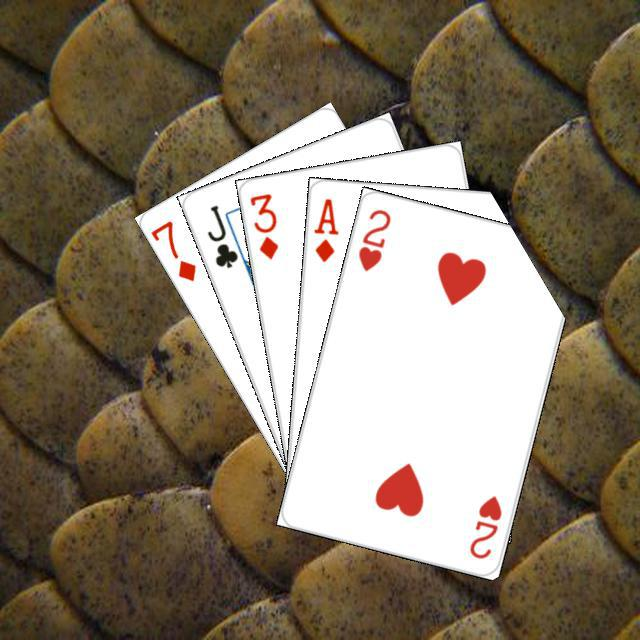2h: (464, 490, 504, 561), (353, 204, 393, 273)
3d: (245, 188, 280, 261)
7d: (147, 215, 198, 284)
Ad: (309, 193, 340, 264)
Jc: (202, 200, 240, 270)
